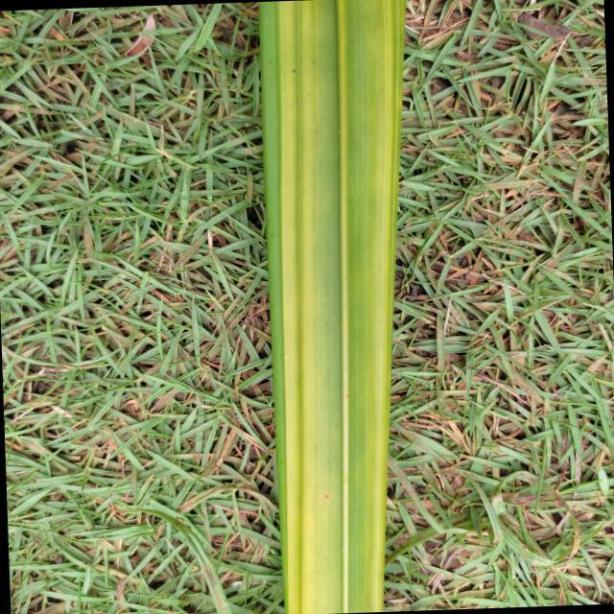nitrogen: (251, 0, 398, 614)
